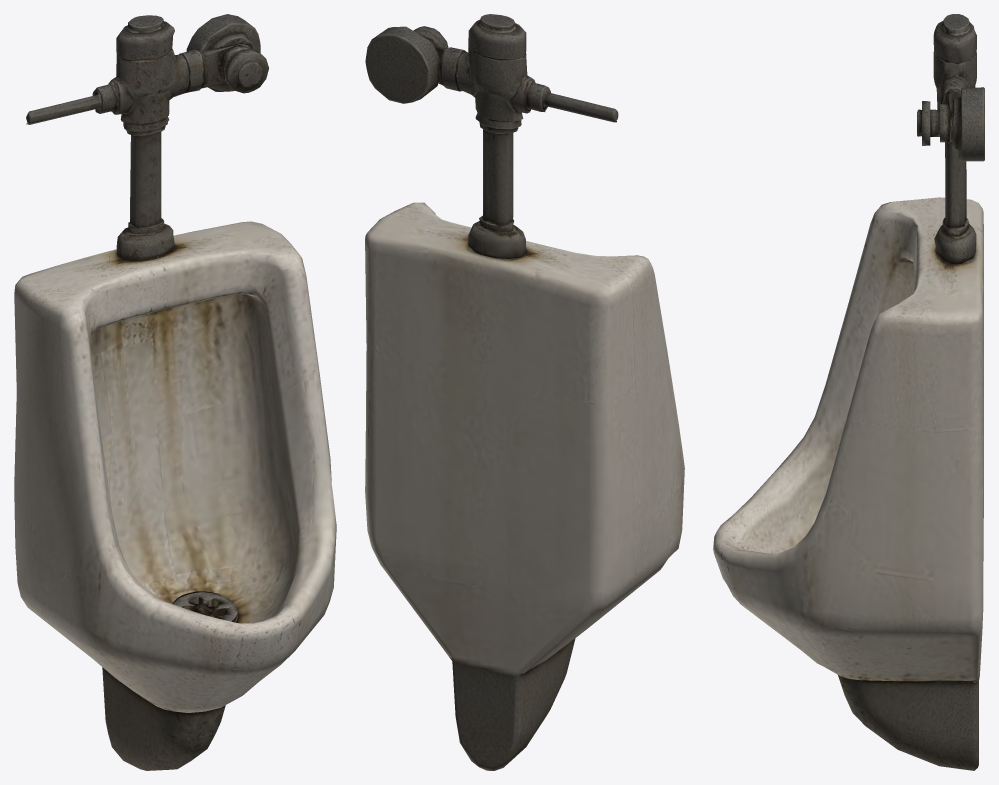
File: p7-urinal-t25.glb
3 views of the same model, side by side, from view 1: azimuth 30°, elevation 25°; view 2: azimuth 150°, elevation 25°; view 3: azimuth 270°, elevation 25° (orthographic).
Visible parts, largest first — view 1: p7-urinal-t25; view 2: p7-urinal-t25; view 3: p7-urinal-t25.
Boxes of the visible parts, left/top/right/bottom form: p7-urinal-t25: left=14, top=14, right=336, bottom=770; p7-urinal-t25: left=365, top=14, right=684, bottom=770; p7-urinal-t25: left=713, top=14, right=984, bottom=770.
Bounding box in the file's own units: 0.4 × 1.1 × 0.363.
1 material, 1 textured.
